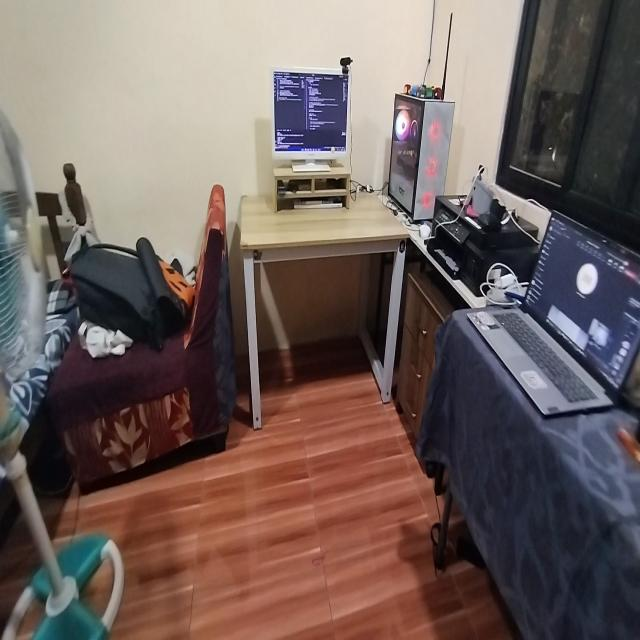table: (238, 181, 412, 425)
